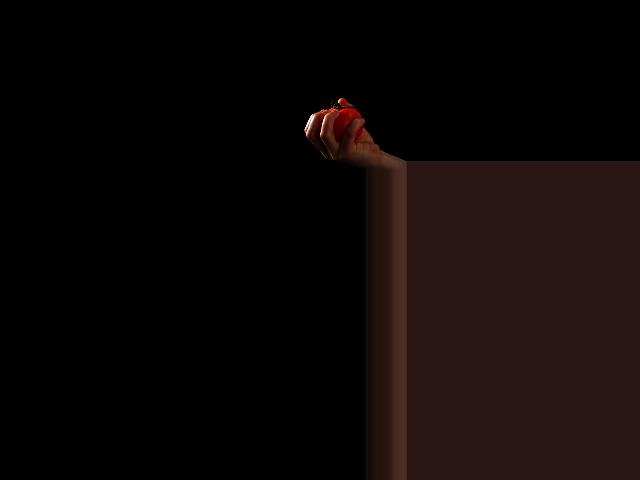tomato: (328, 107, 363, 143)
